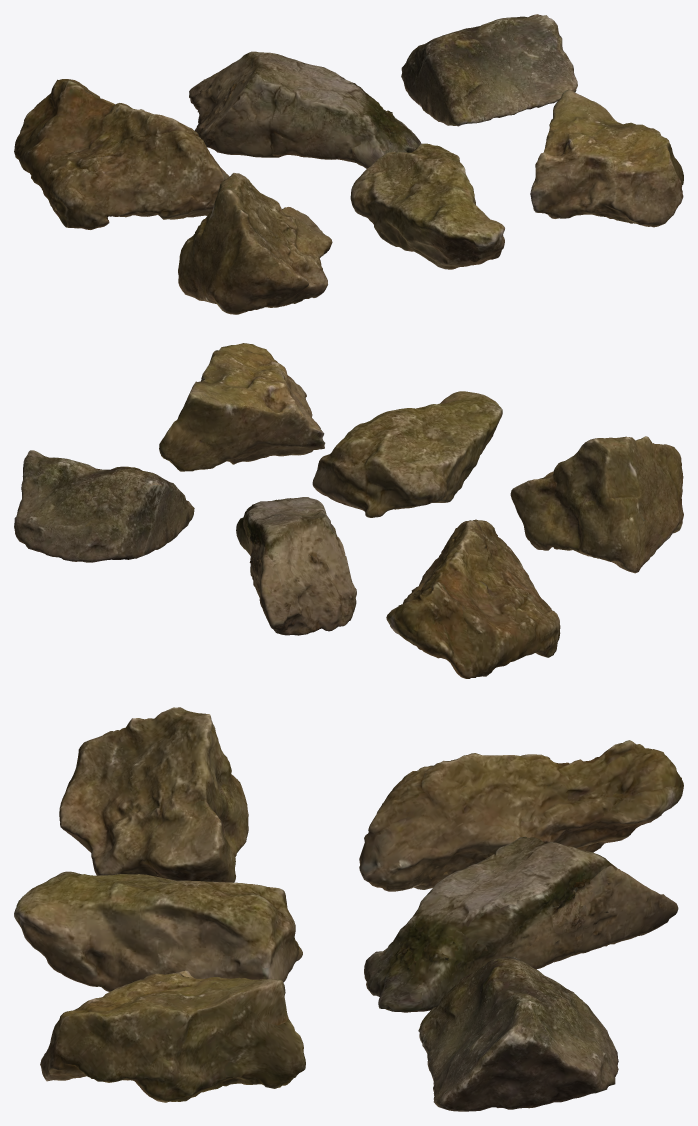
Rendered from rock_moss_set_01.glb.
The picture shows the model from 3 angles, top to bottom: view 1: azimuth 30°, elevation 25°; view 2: azimuth 150°, elevation 25°; view 3: azimuth 270°, elevation 25°; orthographic projection. The views are drawn at different scales.
Parts seen in each view (by area): view 1: rock_moss_set_01_rock01; view 2: rock_moss_set_01_rock01; view 3: rock_moss_set_01_rock01.
Boxes of the visible parts, <box> form: rock_moss_set_01_rock01: <box>14,14,683,314</box>; rock_moss_set_01_rock01: <box>14,343,683,678</box>; rock_moss_set_01_rock01: <box>14,707,683,1111</box>.
Size of the model in its own units: 8 by 1.77 by 6.95.
1 material, 1 textured.
